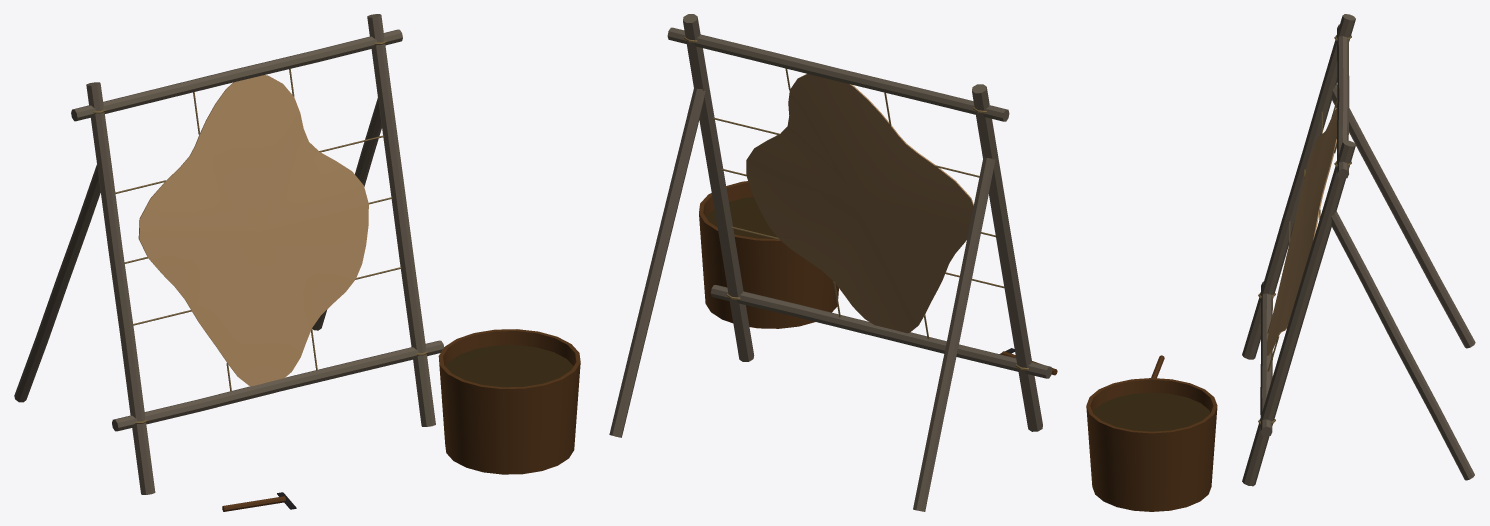
Rendered from gerberrahmen.glb.
The picture shows the model from 3 angles, left to right: view 1: azimuth 30°, elevation 25°; view 2: azimuth 150°, elevation 25°; view 3: azimuth 270°, elevation 25°; orthographic projection. The views are drawn at different scales.
Parts seen in each view (by area): view 1: gerberrahmen; view 2: gerberrahmen; view 3: gerberrahmen.
Part boxes in pixels (<box>): gerberrahmen: <box>14,14,580,511</box>; gerberrahmen: <box>609,14,1057,511</box>; gerberrahmen: <box>1086,14,1475,511</box>.
Size of the model in its own units: 2.1 by 1.9 by 1.96.
